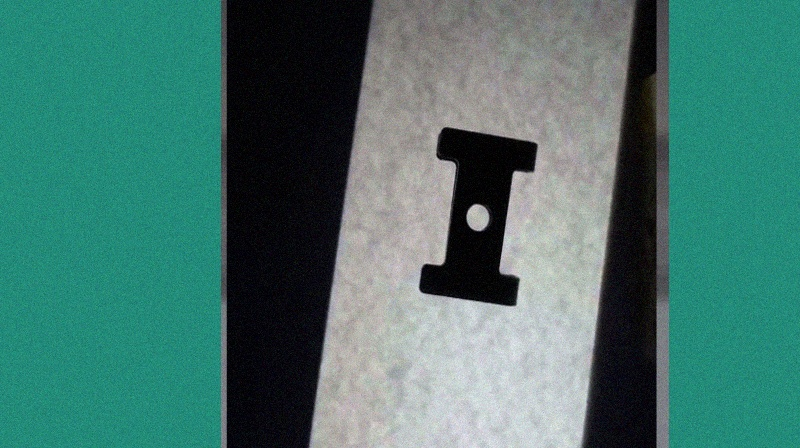O002: (417, 123, 538, 308)
